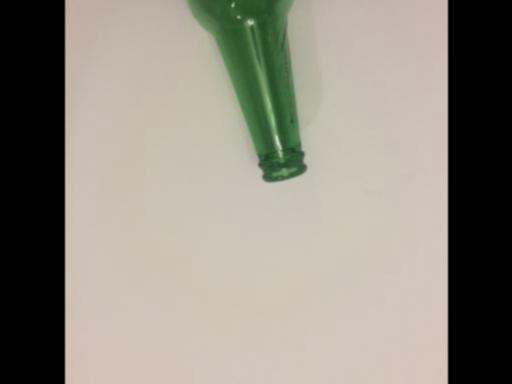alcohol: (165, 0, 306, 183)
glass: (165, 0, 306, 183)
sodocalcique: (165, 0, 306, 183)
